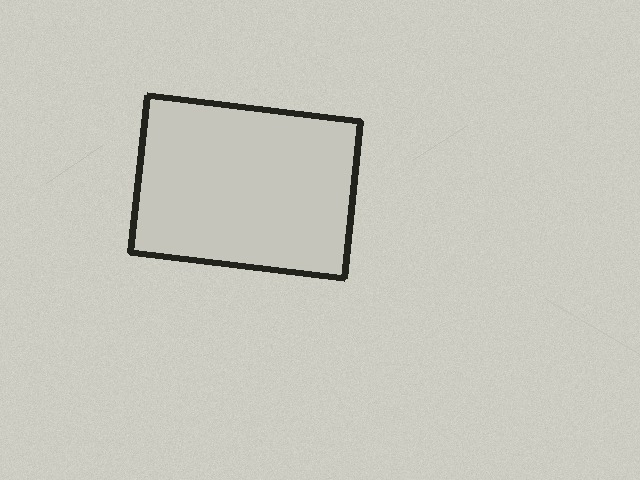parking_area: (130, 95, 360, 278)
